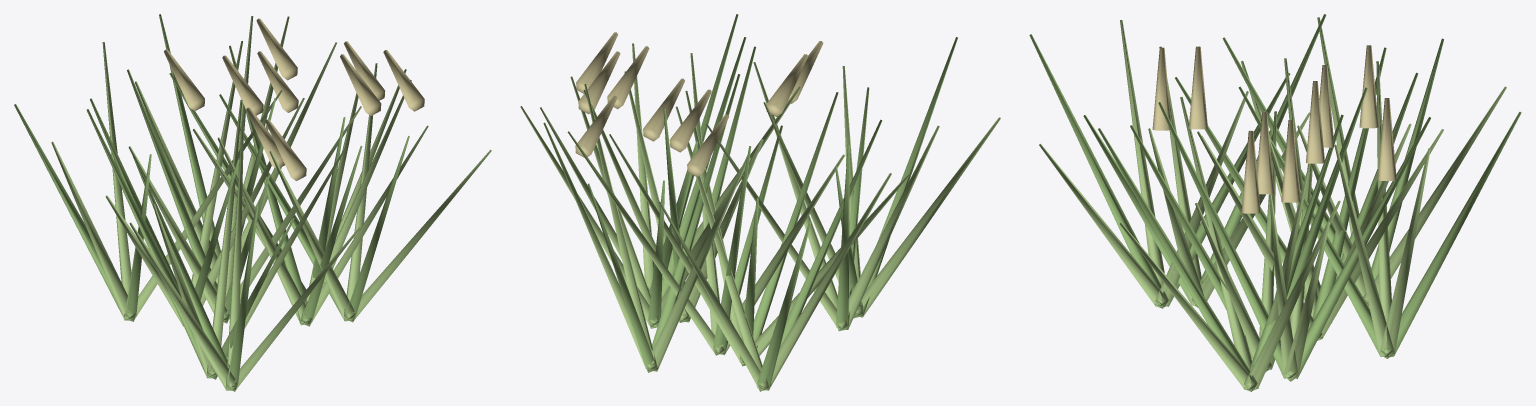
File: rice_plant.glb
The picture shows the model from 3 angles, left to right: view 1: azimuth 30°, elevation 25°; view 2: azimuth 150°, elevation 25°; view 3: azimuth 270°, elevation 25°; orthographic projection. The views are drawn at different scales.
Visible parts, largest first — view 1: geometry_0; view 2: geometry_0; view 3: geometry_0.
Boxes of the visible parts, <box> form: geometry_0: <box>14,14,491,391</box>; geometry_0: <box>520,14,1000,391</box>; geometry_0: <box>1029,14,1521,391</box>.
Size of the model in its own units: 0.7275 by 0.4854 by 0.7763.
